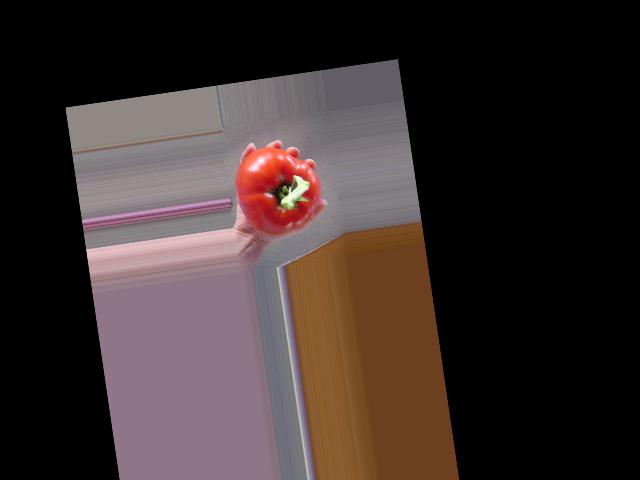tomato: (230, 140, 326, 238)
